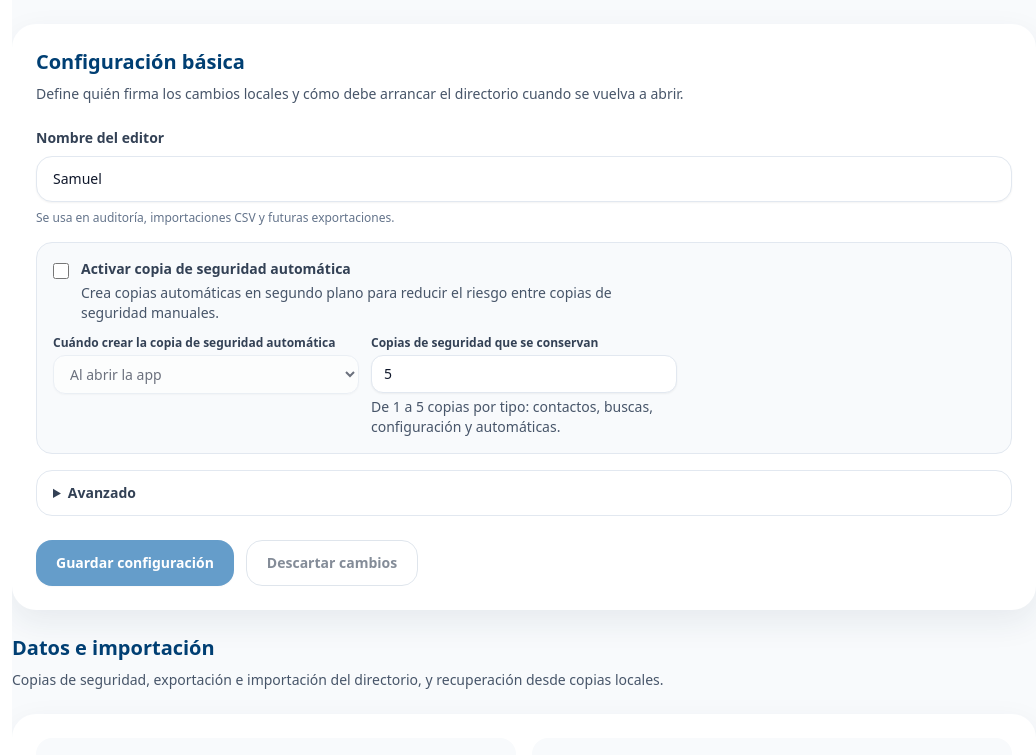
Test: SettingsPage › saves the editor name preference (no inactive-default toggle in the UI)
Expected: the heading "Configuración básica" is shown, [36,48,245,75]
Replace the text in the field labelled "Nombre del editor" with "Guardia tarde": (524, 179) [36,156,1012,202]
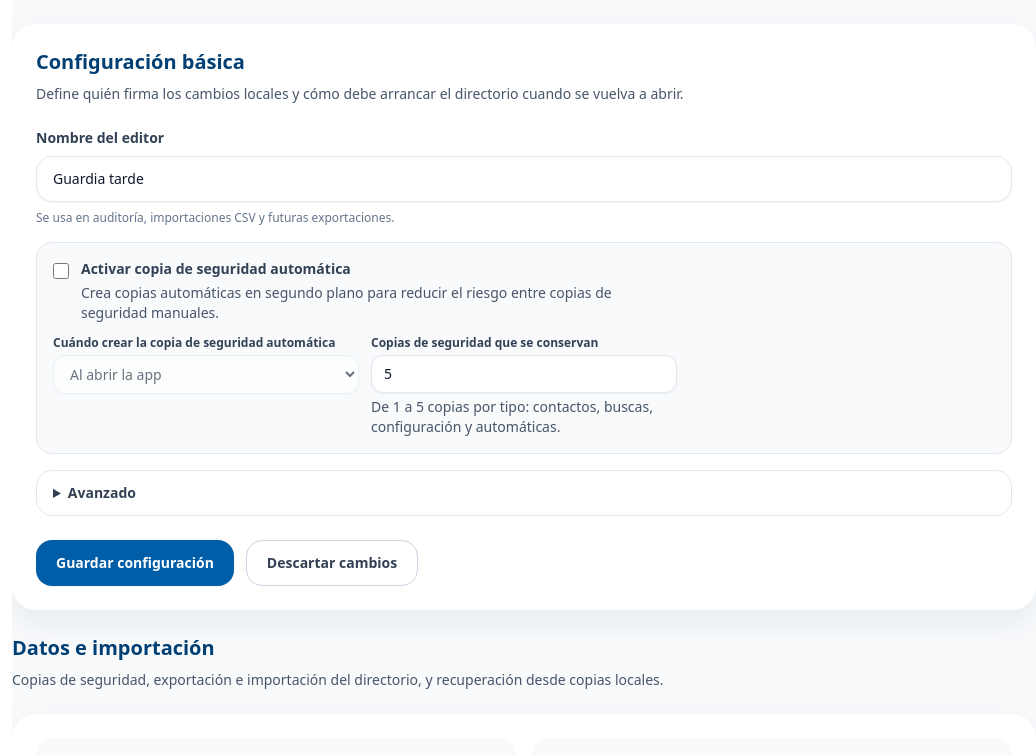
Click the button "Guardar configuración": (135, 563) [36,540,234,586]
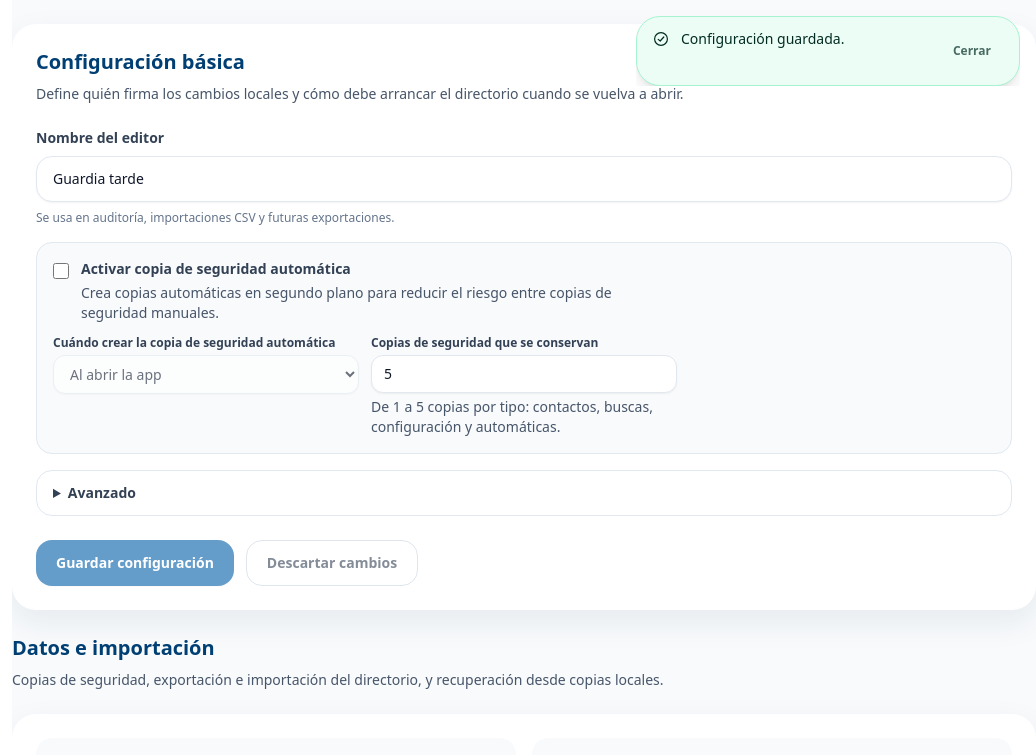
Expected: the text "Configuración guardada." is shown, [681,29,844,48]
